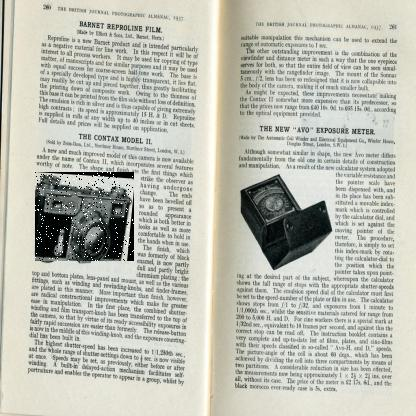Camera: (36, 173, 136, 263)
